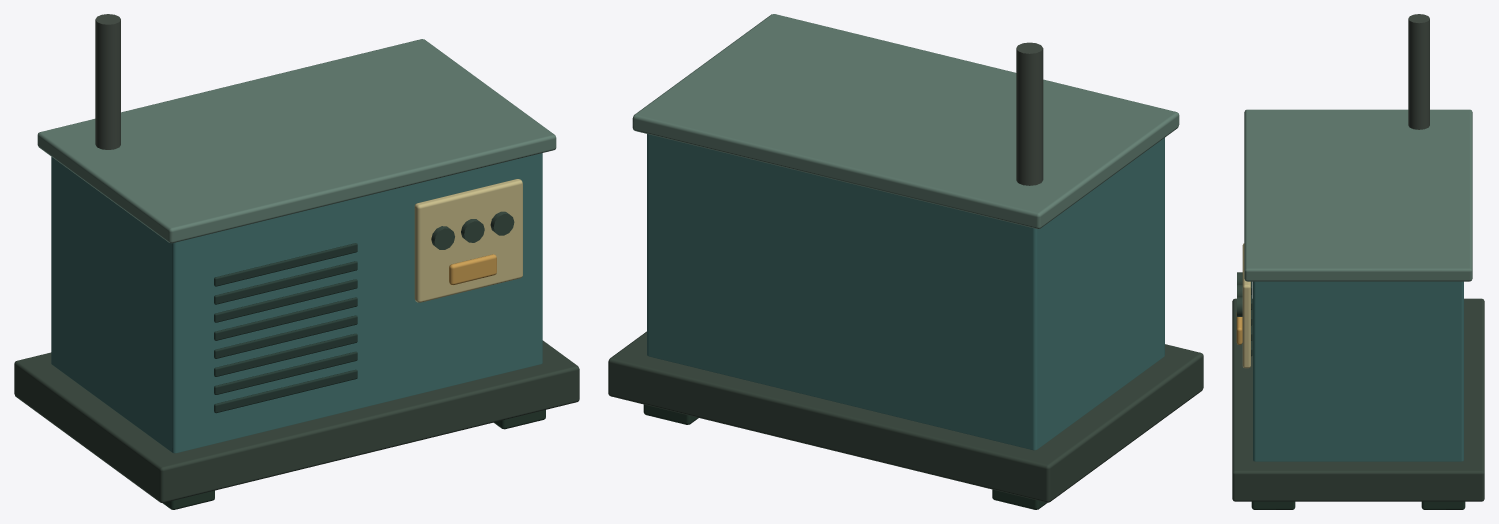
The model's file is SM_FieldGenerator_01.glb.
3 views of the same model, side by side, from view 1: azimuth 30°, elevation 25°; view 2: azimuth 150°, elevation 25°; view 3: azimuth 270°, elevation 25° (orthographic). The views are drawn at different scales.
Parts seen in each view (by area): view 1: SM_FieldGenerator_01; view 2: SM_FieldGenerator_01; view 3: SM_FieldGenerator_01.
Boxes of the visible parts, left/top/right/bottom form: SM_FieldGenerator_01: left=14, top=14, right=579, bottom=509; SM_FieldGenerator_01: left=608, top=14, right=1203, bottom=509; SM_FieldGenerator_01: left=1232, top=14, right=1484, bottom=509.
Size of the model in its own units: 1.7 by 1.6 by 1.04.
